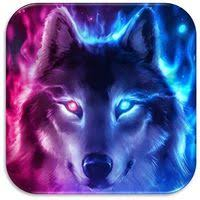Lobo: (22, 6, 175, 188)
